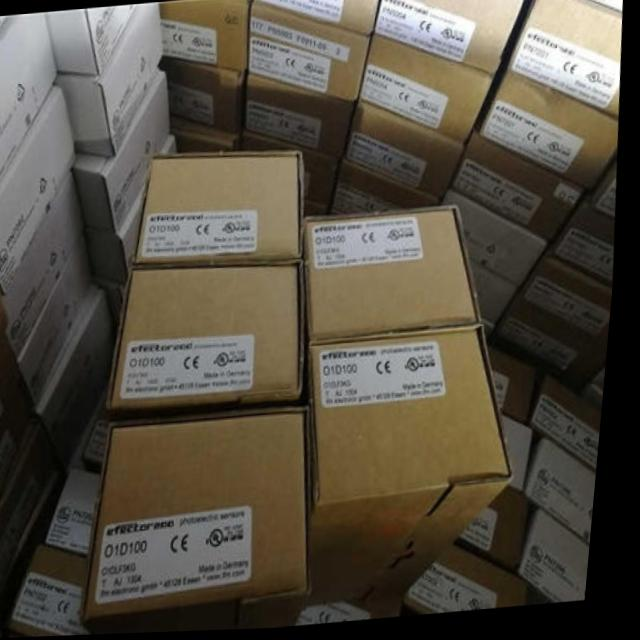box: (315, 326, 520, 599), (90, 407, 321, 617), (114, 263, 309, 410), (309, 206, 491, 346), (137, 153, 309, 265), (56, 3, 165, 159), (481, 77, 621, 196), (0, 86, 80, 294), (75, 71, 174, 234), (8, 172, 90, 361), (456, 135, 590, 245), (361, 37, 494, 146), (509, 0, 623, 126), (373, 0, 526, 83), (23, 235, 96, 407), (249, 4, 372, 105), (349, 104, 467, 204), (42, 289, 118, 432), (445, 195, 554, 290), (0, 13, 58, 189), (248, 72, 355, 162), (410, 546, 541, 618), (524, 261, 618, 351), (531, 444, 605, 550), (248, 135, 346, 210), (501, 304, 593, 383), (23, 544, 100, 637), (536, 381, 610, 475), (160, 56, 245, 136), (160, 0, 252, 71), (44, 5, 136, 76), (531, 514, 600, 608), (336, 161, 446, 218), (90, 179, 147, 284), (461, 496, 538, 570), (552, 208, 619, 292), (53, 469, 110, 562), (253, 0, 380, 40), (494, 348, 546, 427), (0, 343, 30, 465), (475, 263, 523, 329), (80, 393, 118, 474), (506, 414, 541, 495), (172, 118, 243, 155), (595, 168, 619, 224)
